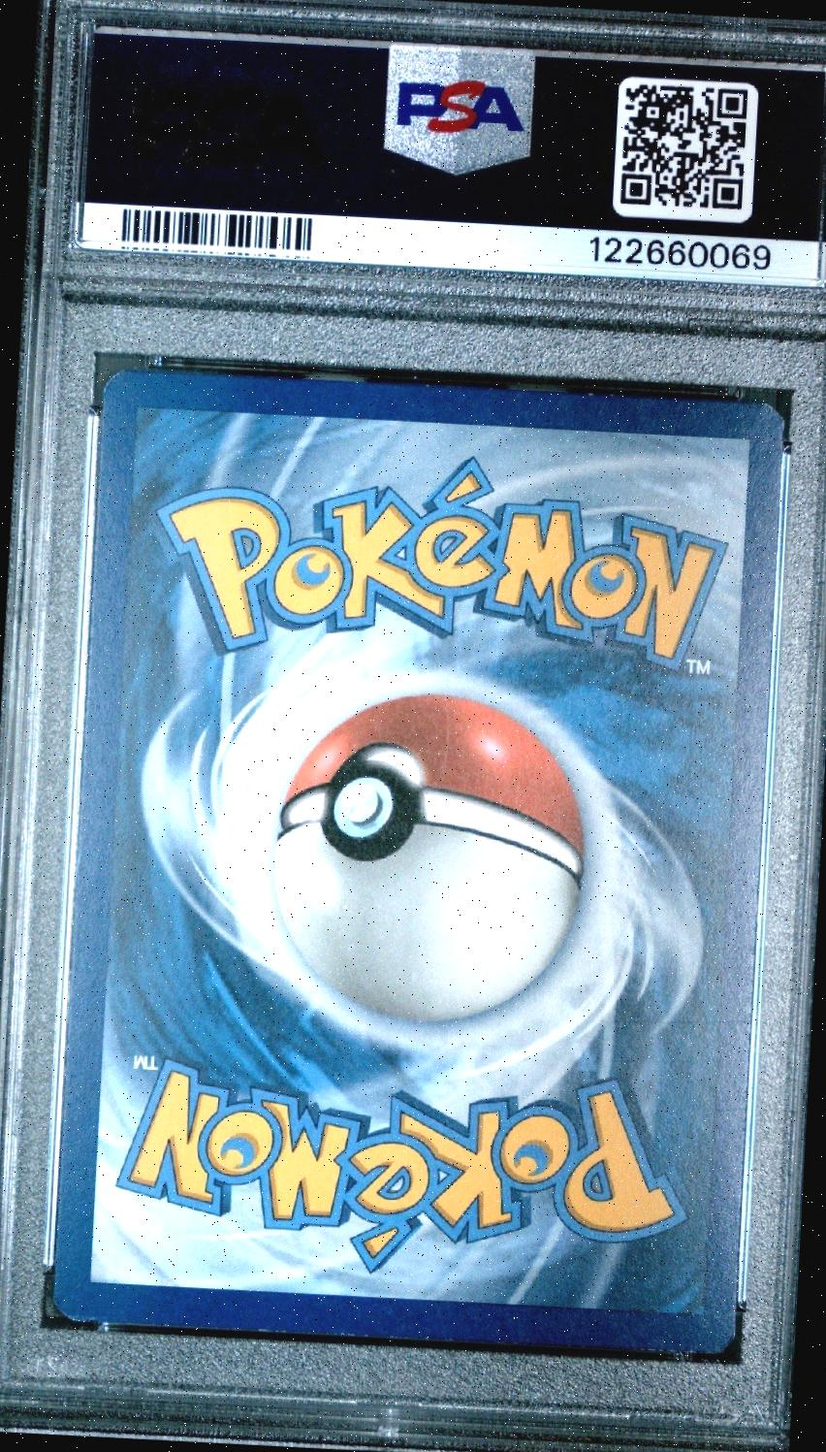card-2UtV: (52, 367, 785, 1355)
